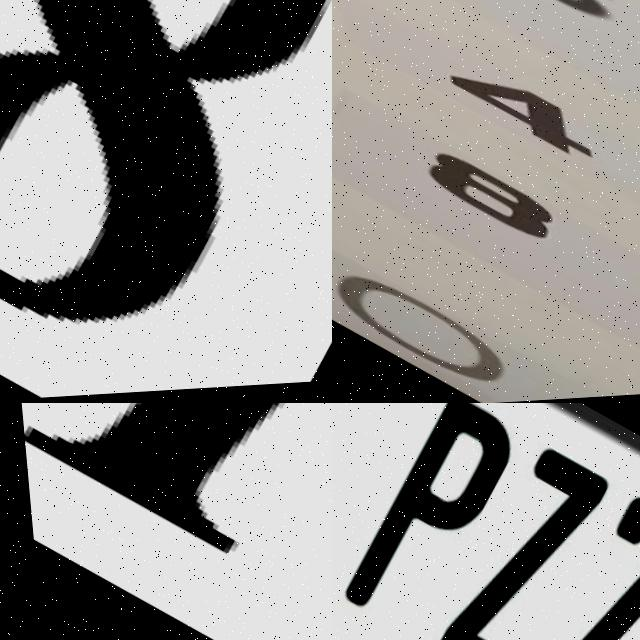0: (332, 239, 525, 403)
4: (422, 36, 619, 188)
6: (451, 0, 640, 54)
7: (501, 490, 640, 640)
8: (0, 0, 332, 393), (393, 128, 583, 275)
P: (332, 403, 541, 640), (17, 403, 280, 559)
Z: (414, 443, 626, 640)
